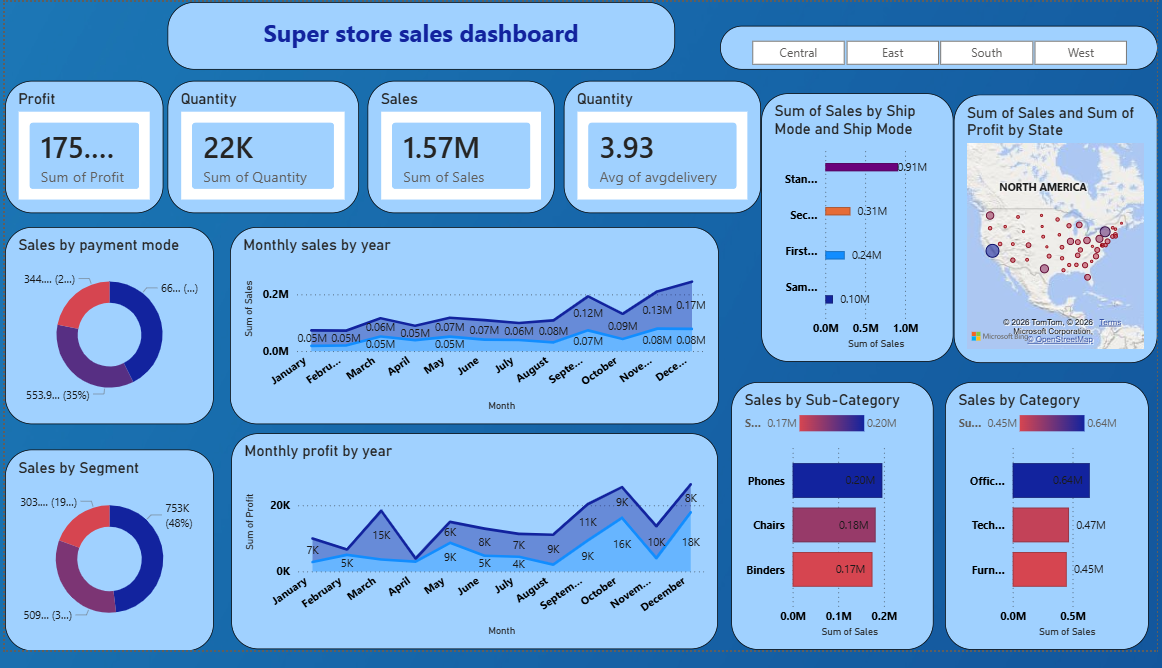

This screenshot's page, from the dashboard's own definition file:
{"tool":"powerbi","page":{"name":"Page 1","canvas":[1280,720],"ordinal":0},"visuals":[{"type":"clusteredBarChart","title":"Sales by Category","fields":{"Y":["Sum(SuperStore_Sales_Dataset (2).Sales)"],"Category":["SuperStore_Sales_Dataset (2).Category"]},"box":[1044.3,422.6,226.4,297.8],"z":0},{"type":"clusteredBarChart","title":"Sales by Sub-Category","fields":{"Y":["Sum(SuperStore_Sales_Dataset (2).Sales)"],"Category":["SuperStore_Sales_Dataset (2).Sub-Category"]},"box":[806.9,422.6,225,297.8],"z":1000},{"type":"clusteredBarChart","fields":{"Y":["Sum(SuperStore_Sales_Dataset (2).Sales)"],"Category":["SuperStore_Sales_Dataset (2).Ship Mode"],"Series":["SuperStore_Sales_Dataset (2).Ship Mode"]},"box":[840.3,101.4,213.9,298.6],"z":2000},{"type":"stackedAreaChart","title":"Monthly sales by year","fields":{"Y":["Sum(SuperStore_Sales_Dataset (2).Sales)"],"Category":["SuperStore_Sales_Dataset (2).Order Date.Variation.Date Hierarchy.Month","SuperStore_Sales_Dataset (2).Order Date.Variation.Date Hierarchy.Day"],"Series":["SuperStore_Sales_Dataset (2).Order Date.Variation.Date Hierarchy.Year"]},"box":[249.7,249.7,543.4,219.6],"z":3000},{"type":"stackedAreaChart","title":"Monthly profit by year","fields":{"Category":["SuperStore_Sales_Dataset (2).Order Date.Variation.Date Hierarchy.Month","SuperStore_Sales_Dataset (2).Order Date.Variation.Date Hierarchy.Day"],"Series":["SuperStore_Sales_Dataset (2).Order Date.Variation.Date Hierarchy.Year"],"Y":["Sum(SuperStore_Sales_Dataset (2).Profit)"]},"box":[251.1,478.9,540.7,240.1],"z":4000},{"type":"map","fields":{"Category":["SuperStore_Sales_Dataset (2).State"],"Size":["Sum(SuperStore_Sales_Dataset (2).Sales)"]},"box":[1054.2,102.8,226.4,298.6],"z":5000},{"type":"donutChart","title":"Sales by Segment","fields":{"Category":["SuperStore_Sales_Dataset (2).Segment"],"Y":["Sum(SuperStore_Sales_Dataset (2).Sales)"]},"box":[0,496.7,231.9,223.7],"z":6000},{"type":"donutChart","title":"Sales by payment mode","fields":{"Category":["SuperStore_Sales_Dataset (2).Payment Mode"],"Y":["Sum(SuperStore_Sales_Dataset (2).Sales)"]},"box":[0,249.7,231.9,219.6],"z":7000},{"type":"slicer","fields":{"Values":["SuperStore_Sales_Dataset (2).Region"]},"box":[794.4,26.4,486.1,48.6],"z":8000},{"type":"textbox","box":[180.6,0,563.9,75],"z":9000},{"type":"cardVisual","title":"Sales","fields":{"Data":["Sum(SuperStore_Sales_Dataset (2).Sales)"]},"box":[402.8,87.5,208.3,147.2],"z":10000},{"type":"cardVisual","title":"Quantity","fields":{"Data":["Sum(SuperStore_Sales_Dataset (2).Quantity)"]},"box":[180.6,87.5,212.5,147.2],"z":11000},{"type":"cardVisual","title":"Profit","fields":{"Data":["Sum(SuperStore_Sales_Dataset (2).Profit)"]},"box":[0,87.5,176.4,147.2],"z":12000},{"type":"cardVisual","title":"Quantity","fields":{"Data":["Avg(SuperStore_Sales_Dataset (2).AvgDelivery)"]},"box":[620.8,87.5,219.4,147.2],"z":13000}]}

Visuals, with their boxes in screenshot pixels (x1, y1, x2, y2), scaled from the page's 1280x720 canvas onto the 1162x668 screenshot:
"Sales by Category" clusteredBarChart: pyautogui.locateOnScreen(948, 392, 1154, 667)
"Sales by Sub-Category" clusteredBarChart: pyautogui.locateOnScreen(733, 392, 937, 667)
clusteredBarChart - Sum(SuperStore_Sales_Dataset (2).Sales) x SuperStore_Sales_Dataset (2).Ship Mode: pyautogui.locateOnScreen(763, 94, 957, 371)
"Monthly sales by year" stackedAreaChart: pyautogui.locateOnScreen(227, 232, 720, 435)
"Monthly profit by year" stackedAreaChart: pyautogui.locateOnScreen(228, 444, 719, 667)
map - SuperStore_Sales_Dataset (2).State x Sum(SuperStore_Sales_Dataset (2).Sales): pyautogui.locateOnScreen(957, 95, 1161, 372)
"Sales by Segment" donutChart: pyautogui.locateOnScreen(0, 461, 211, 667)
"Sales by payment mode" donutChart: pyautogui.locateOnScreen(0, 232, 211, 435)
slicer - SuperStore_Sales_Dataset (2).Region: pyautogui.locateOnScreen(721, 24, 1161, 70)
textbox: pyautogui.locateOnScreen(164, 0, 676, 70)
"Sales" cardVisual: pyautogui.locateOnScreen(366, 81, 555, 218)
"Quantity" cardVisual: pyautogui.locateOnScreen(164, 81, 357, 218)
"Profit" cardVisual: pyautogui.locateOnScreen(0, 81, 160, 218)
"Quantity" cardVisual: pyautogui.locateOnScreen(564, 81, 763, 218)
